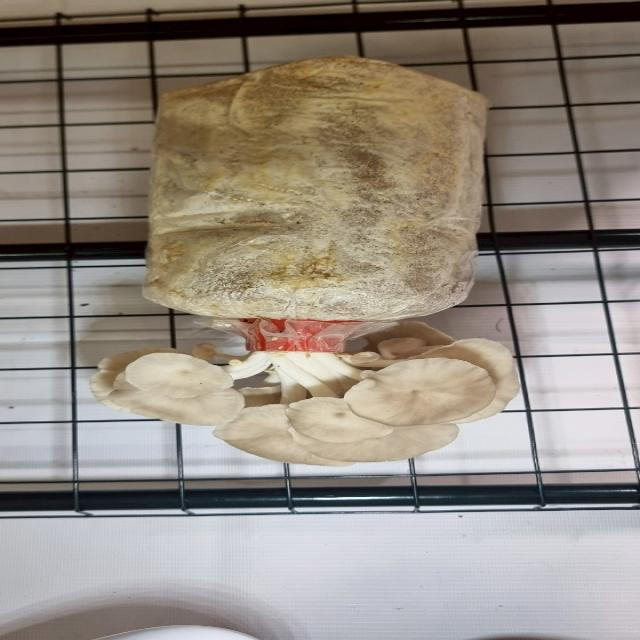normal: (71, 327, 526, 470)
